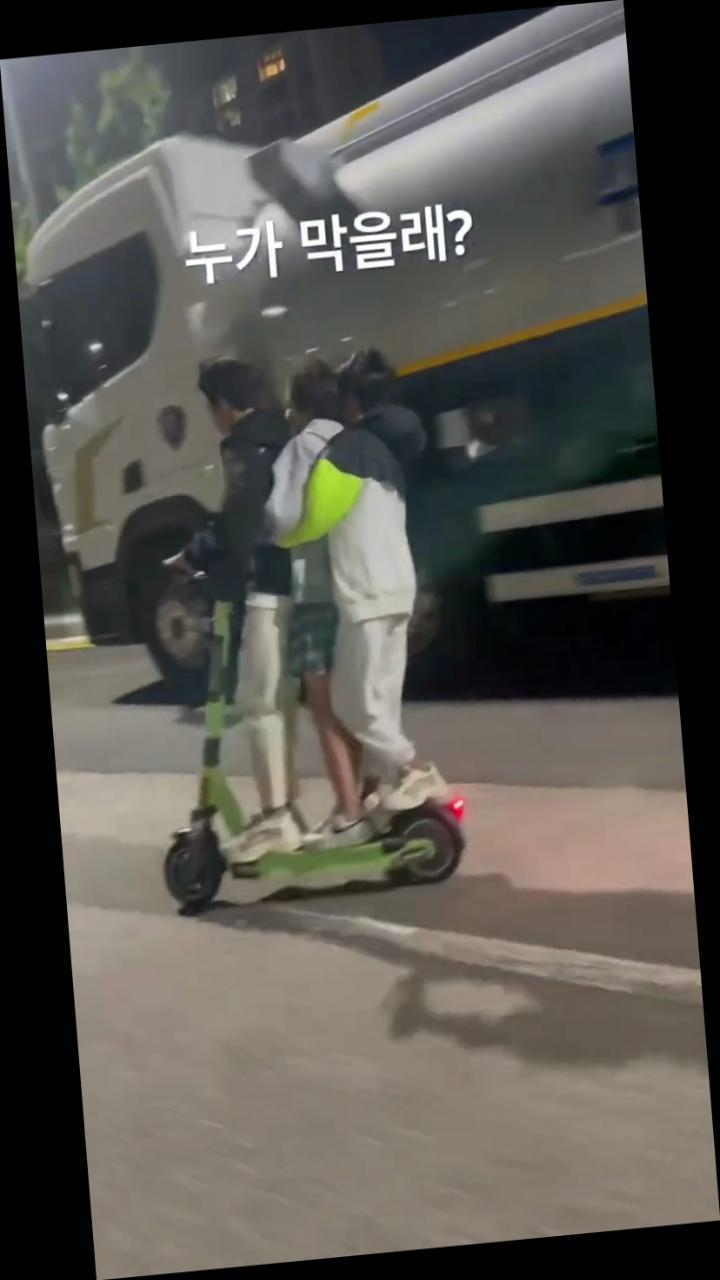multiple: (120, 330, 476, 916)
